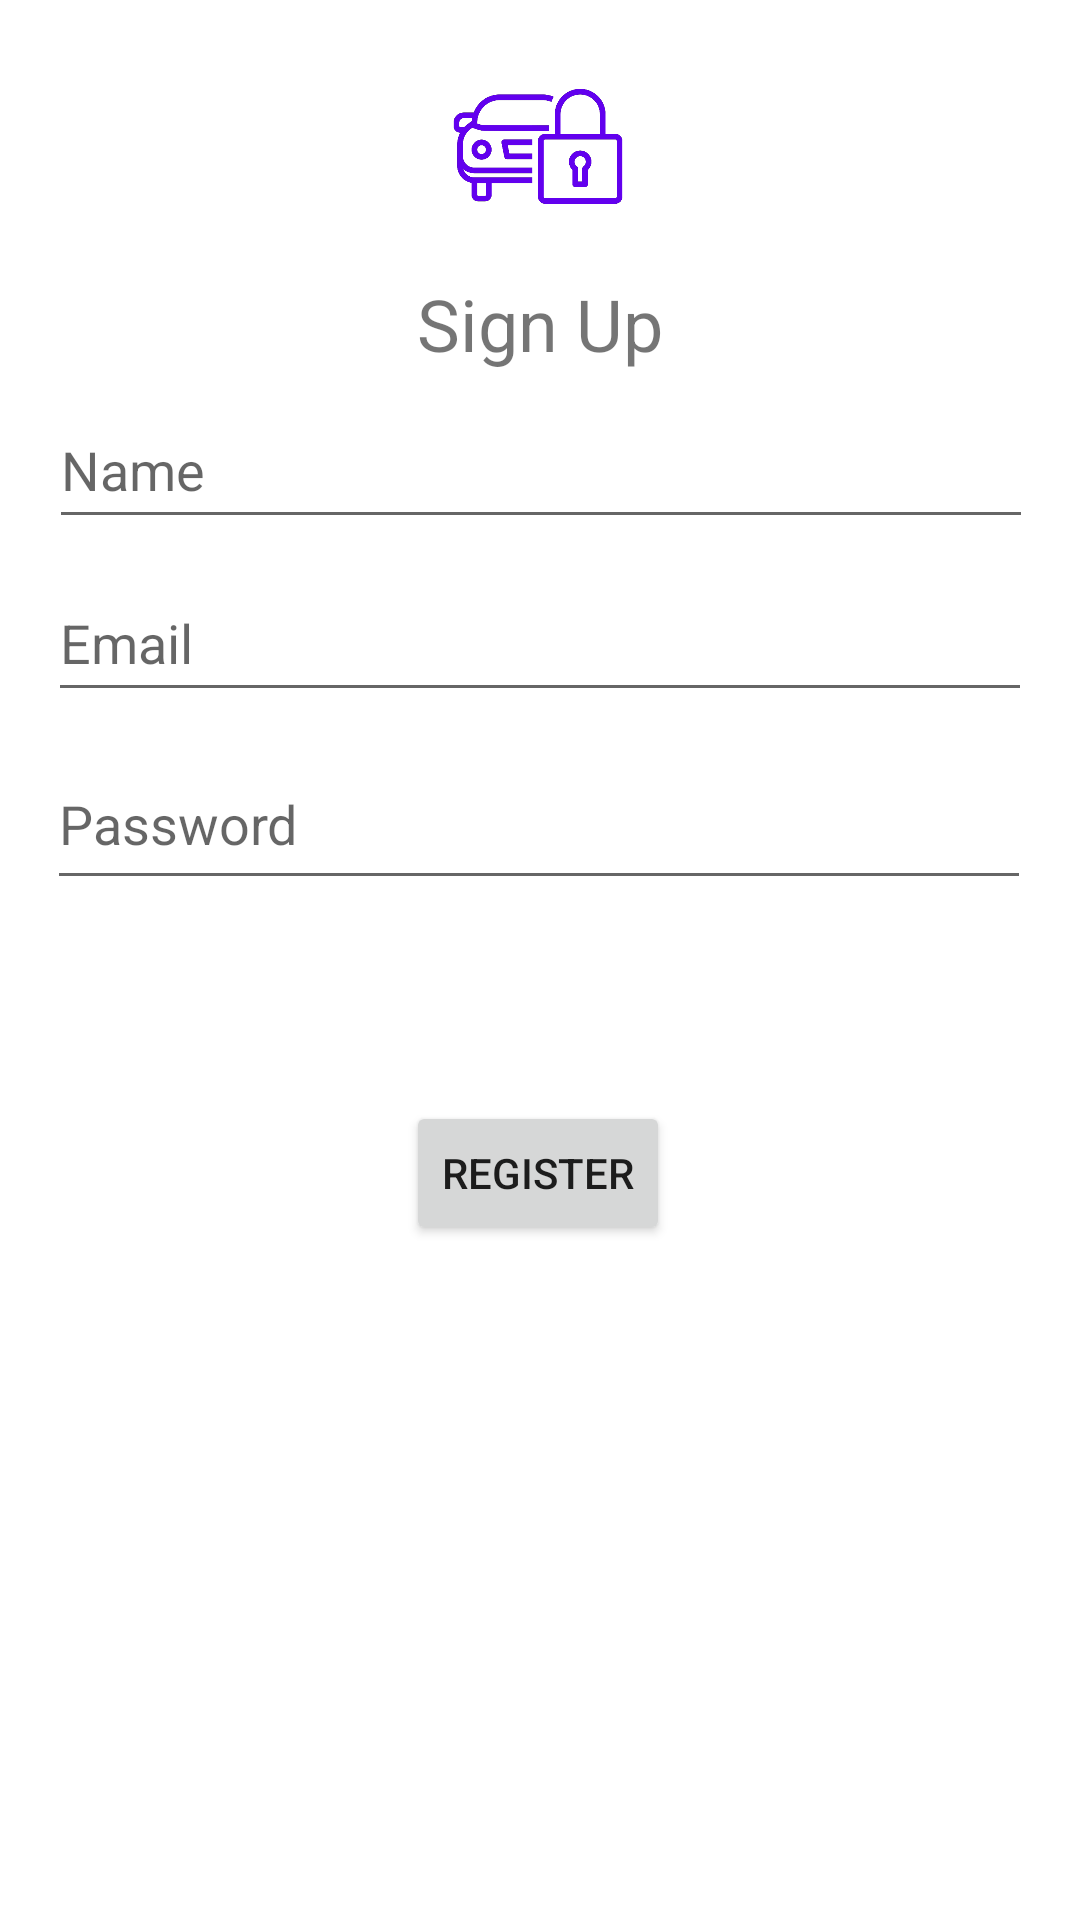

Screen size 1080×1920. Icon name, then its box in pixels as region(x1, y1, x2, y2):
carsec: region(453, 89, 623, 204)
